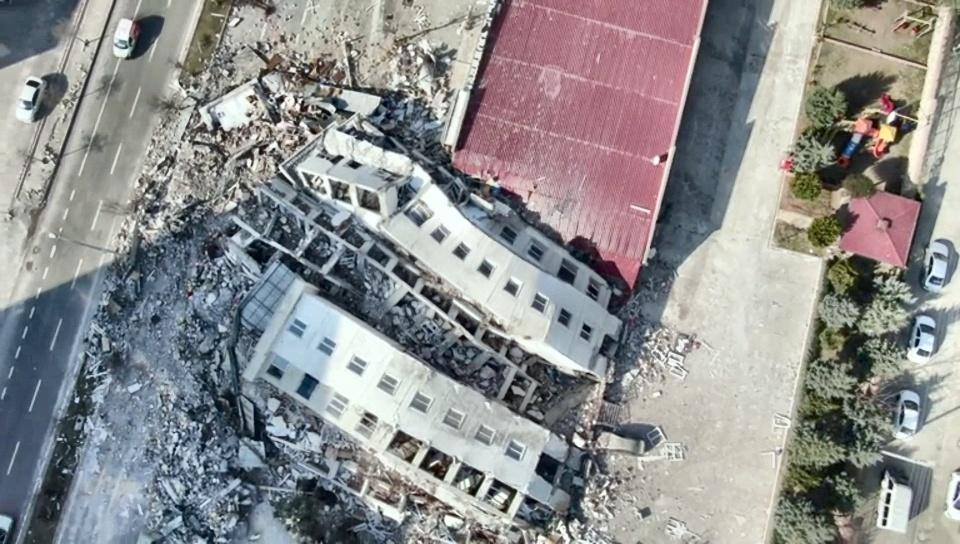kapali: (52, 8, 371, 543)
